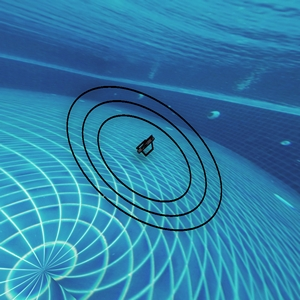circle: (63, 81, 226, 235)
submarine: (138, 140, 157, 156)
